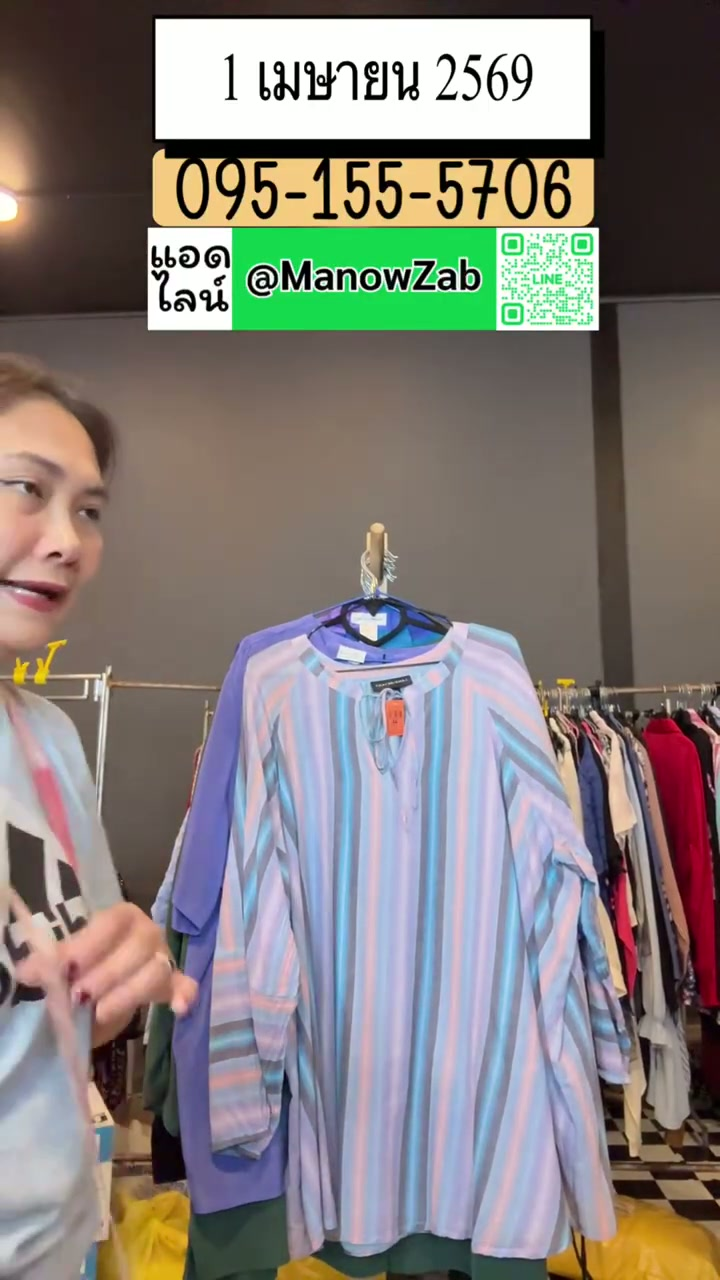display_shirt: (212, 623, 628, 1260)
